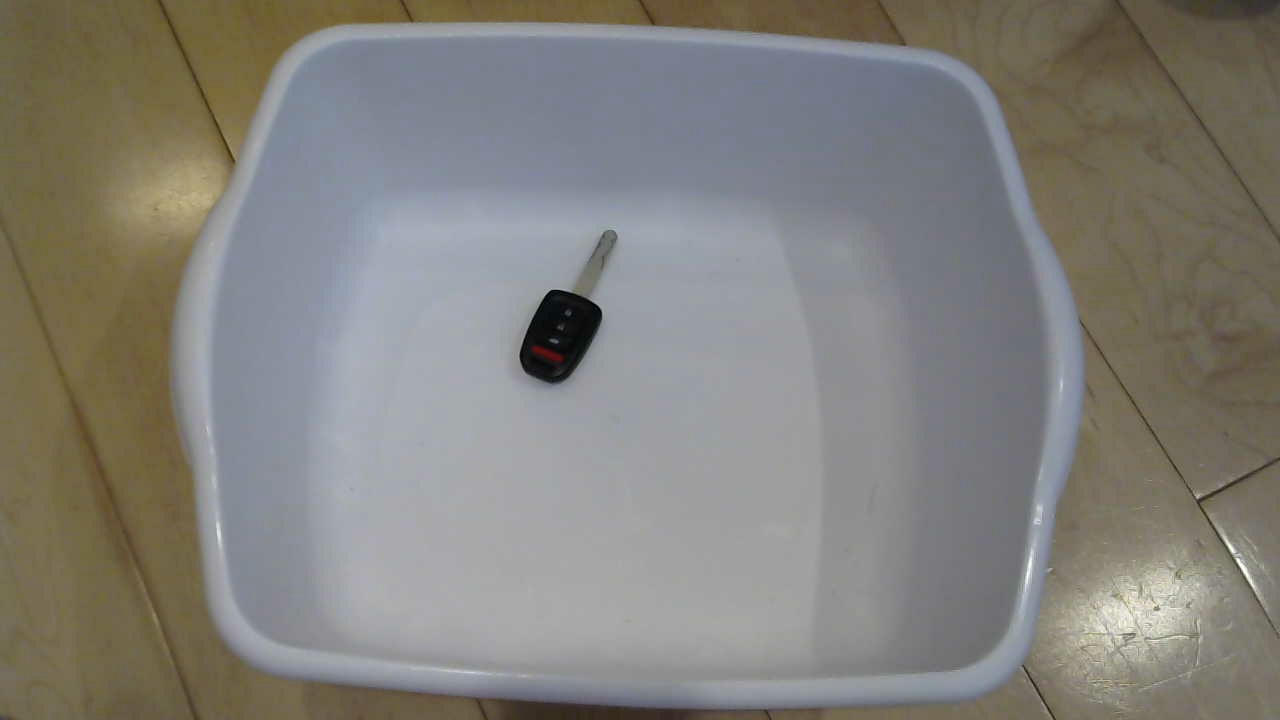key: (495, 222, 649, 396)
